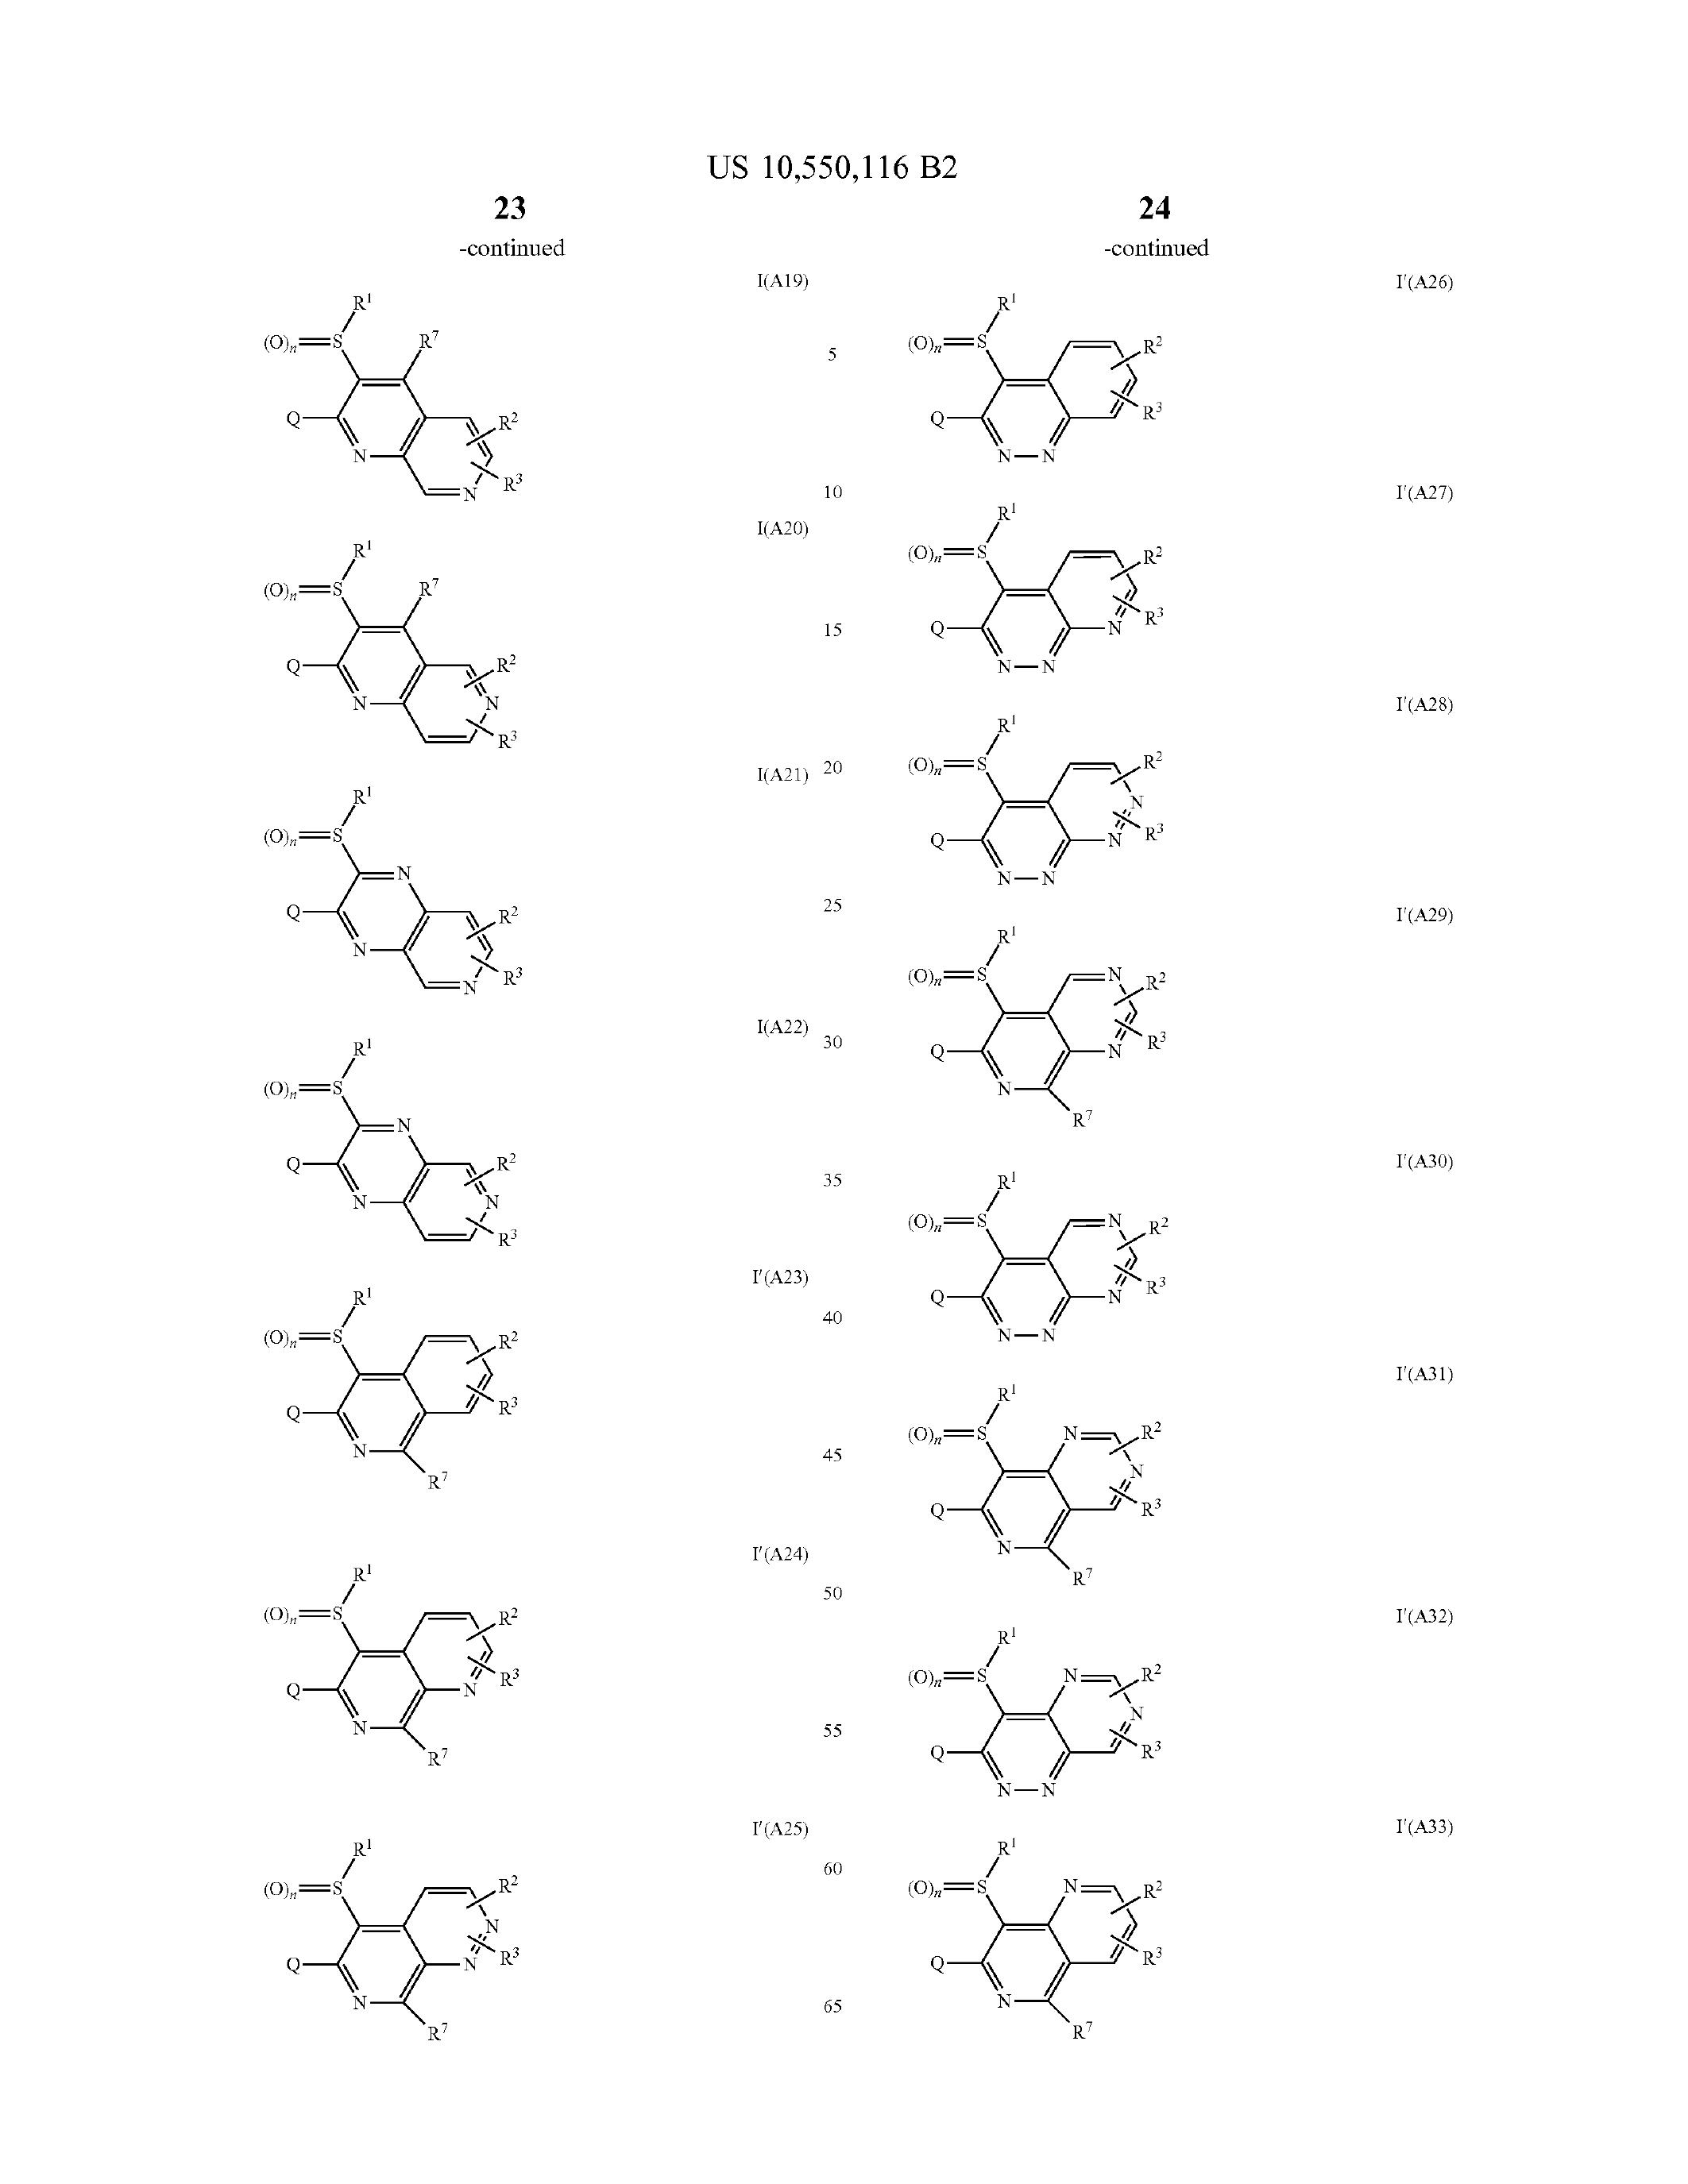substitutes: (867, 1608, 1222, 2046)
